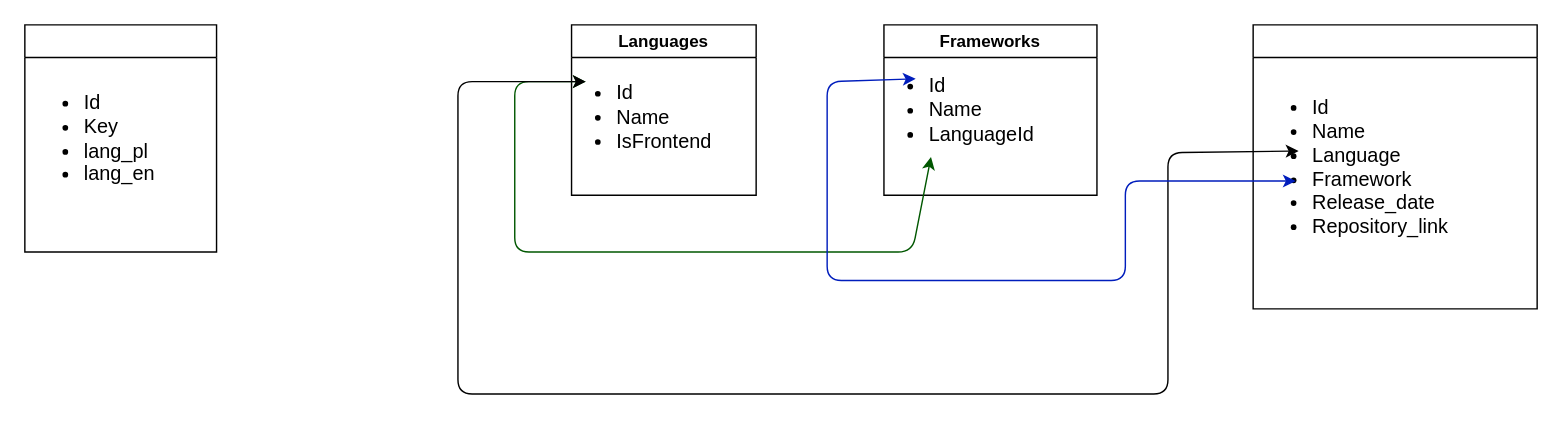
Some shapes in this 1562 by 432 pixel diagram are drawn without their labels. Each missing label, with the box of its shape:
Projects: (1252, 23, 1537, 309)
Wording: (23, 23, 217, 252)
